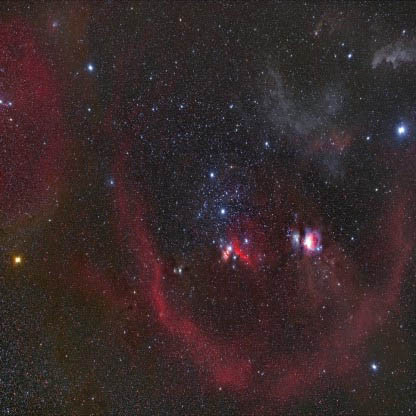Orion: (5, 239, 36, 272), (73, 50, 105, 81), (388, 115, 414, 145), (360, 352, 386, 378), (220, 233, 244, 258), (211, 201, 230, 220), (201, 163, 221, 180)
